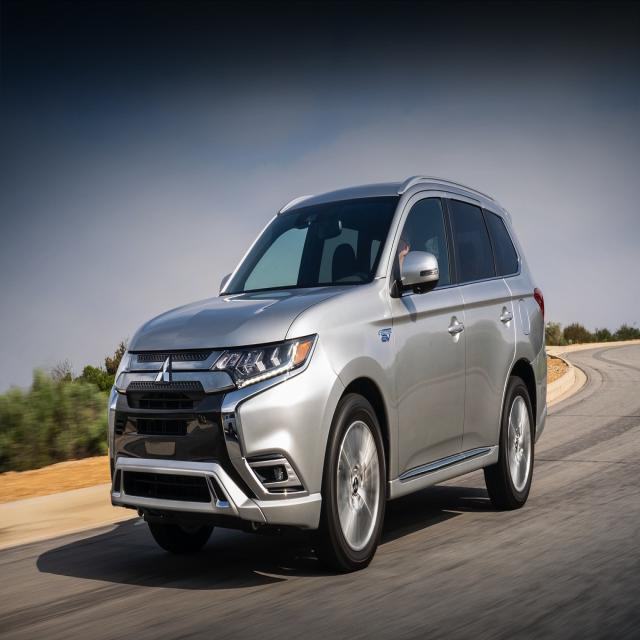light_vehicle: (107, 176, 548, 574)
